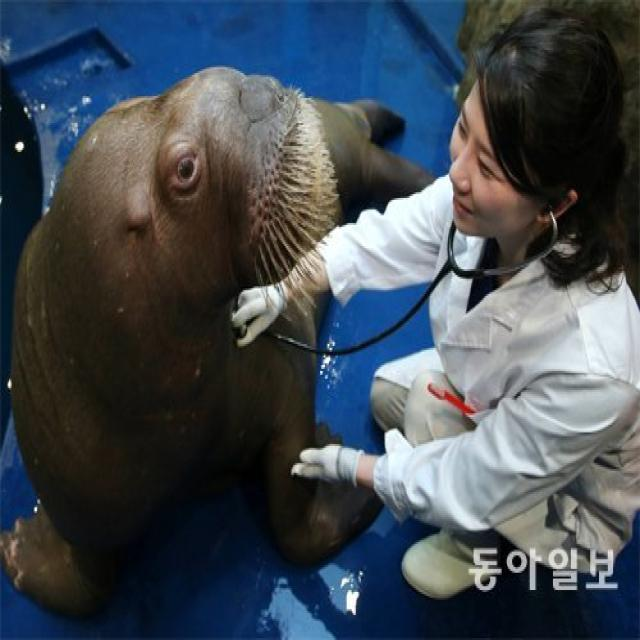walrus: (22, 42, 427, 590)
